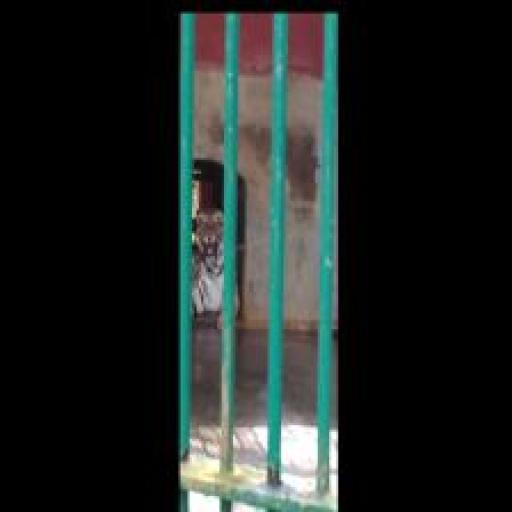Tiger: (190, 199, 244, 332)
